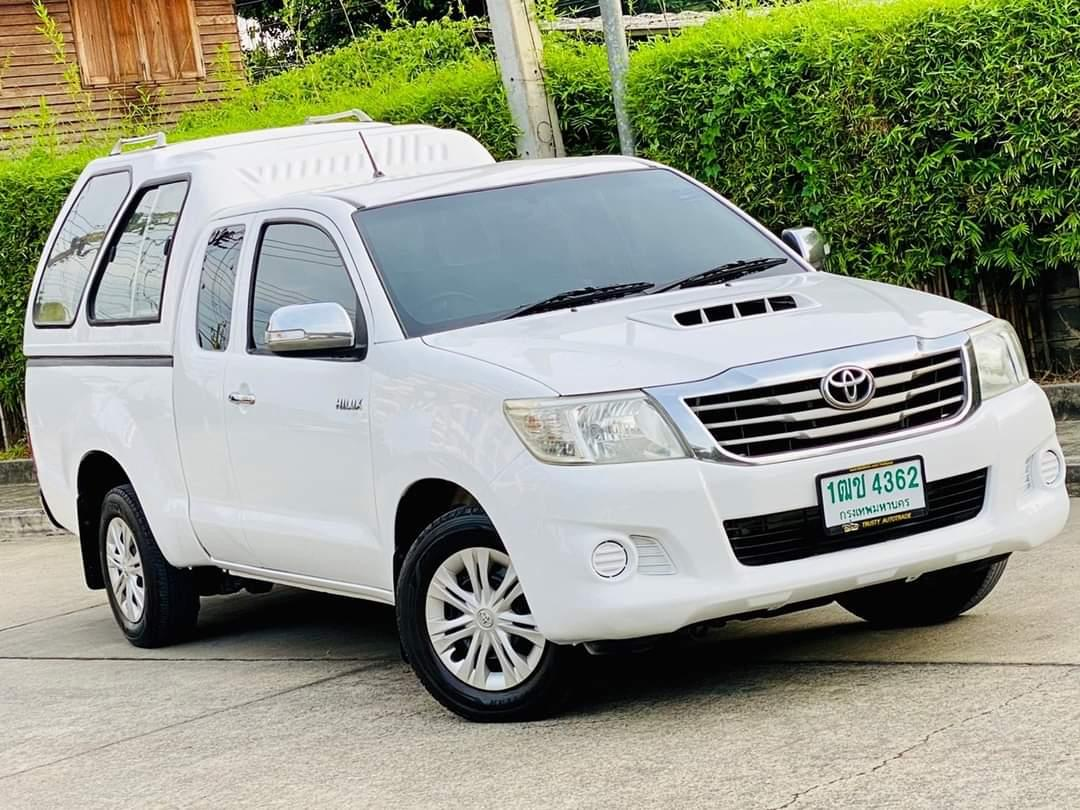license-plate: (812, 453, 932, 542)
